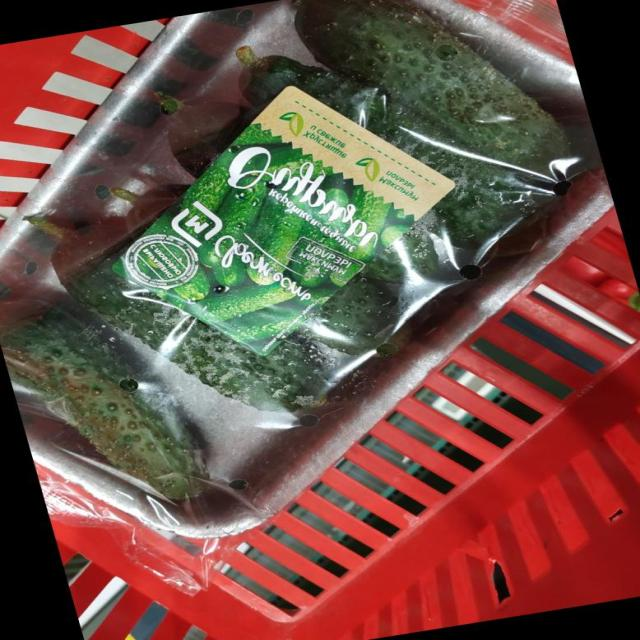Cucumber: (235, 49, 533, 248), (51, 230, 325, 411), (294, 0, 568, 169), (0, 300, 206, 500), (299, 274, 398, 356), (159, 95, 255, 176), (110, 185, 185, 229), (400, 227, 438, 274), (365, 244, 404, 280)
